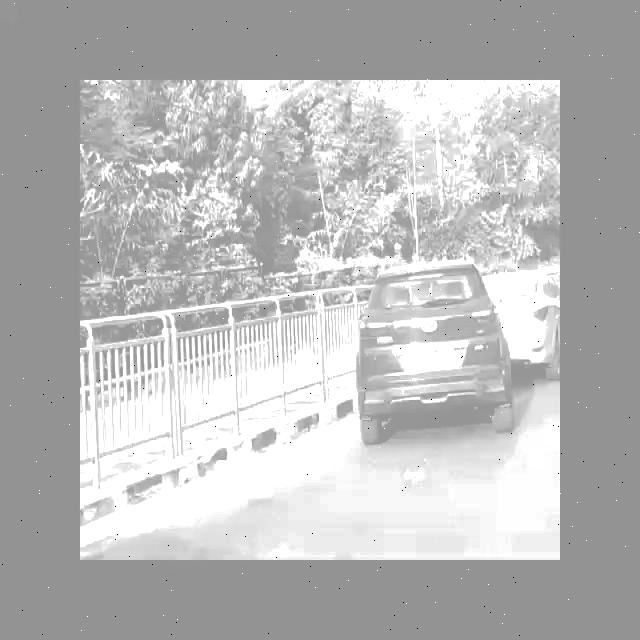Car: (352, 252, 516, 478), (501, 261, 560, 371)
